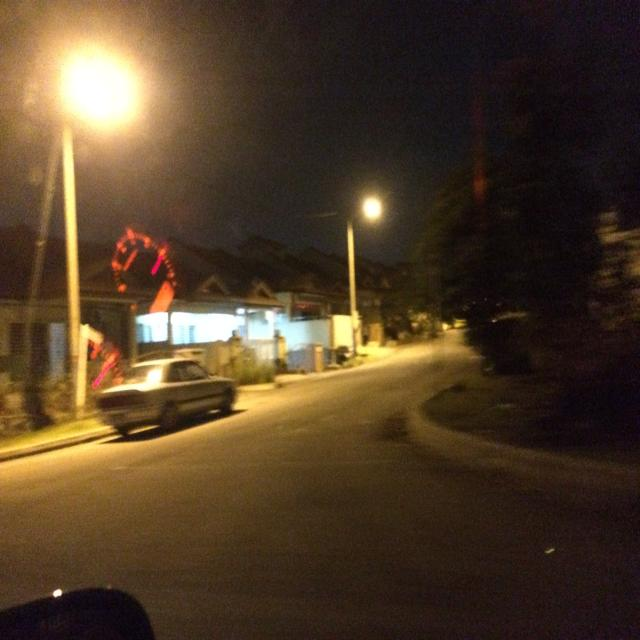Car: (66, 355, 276, 462)
